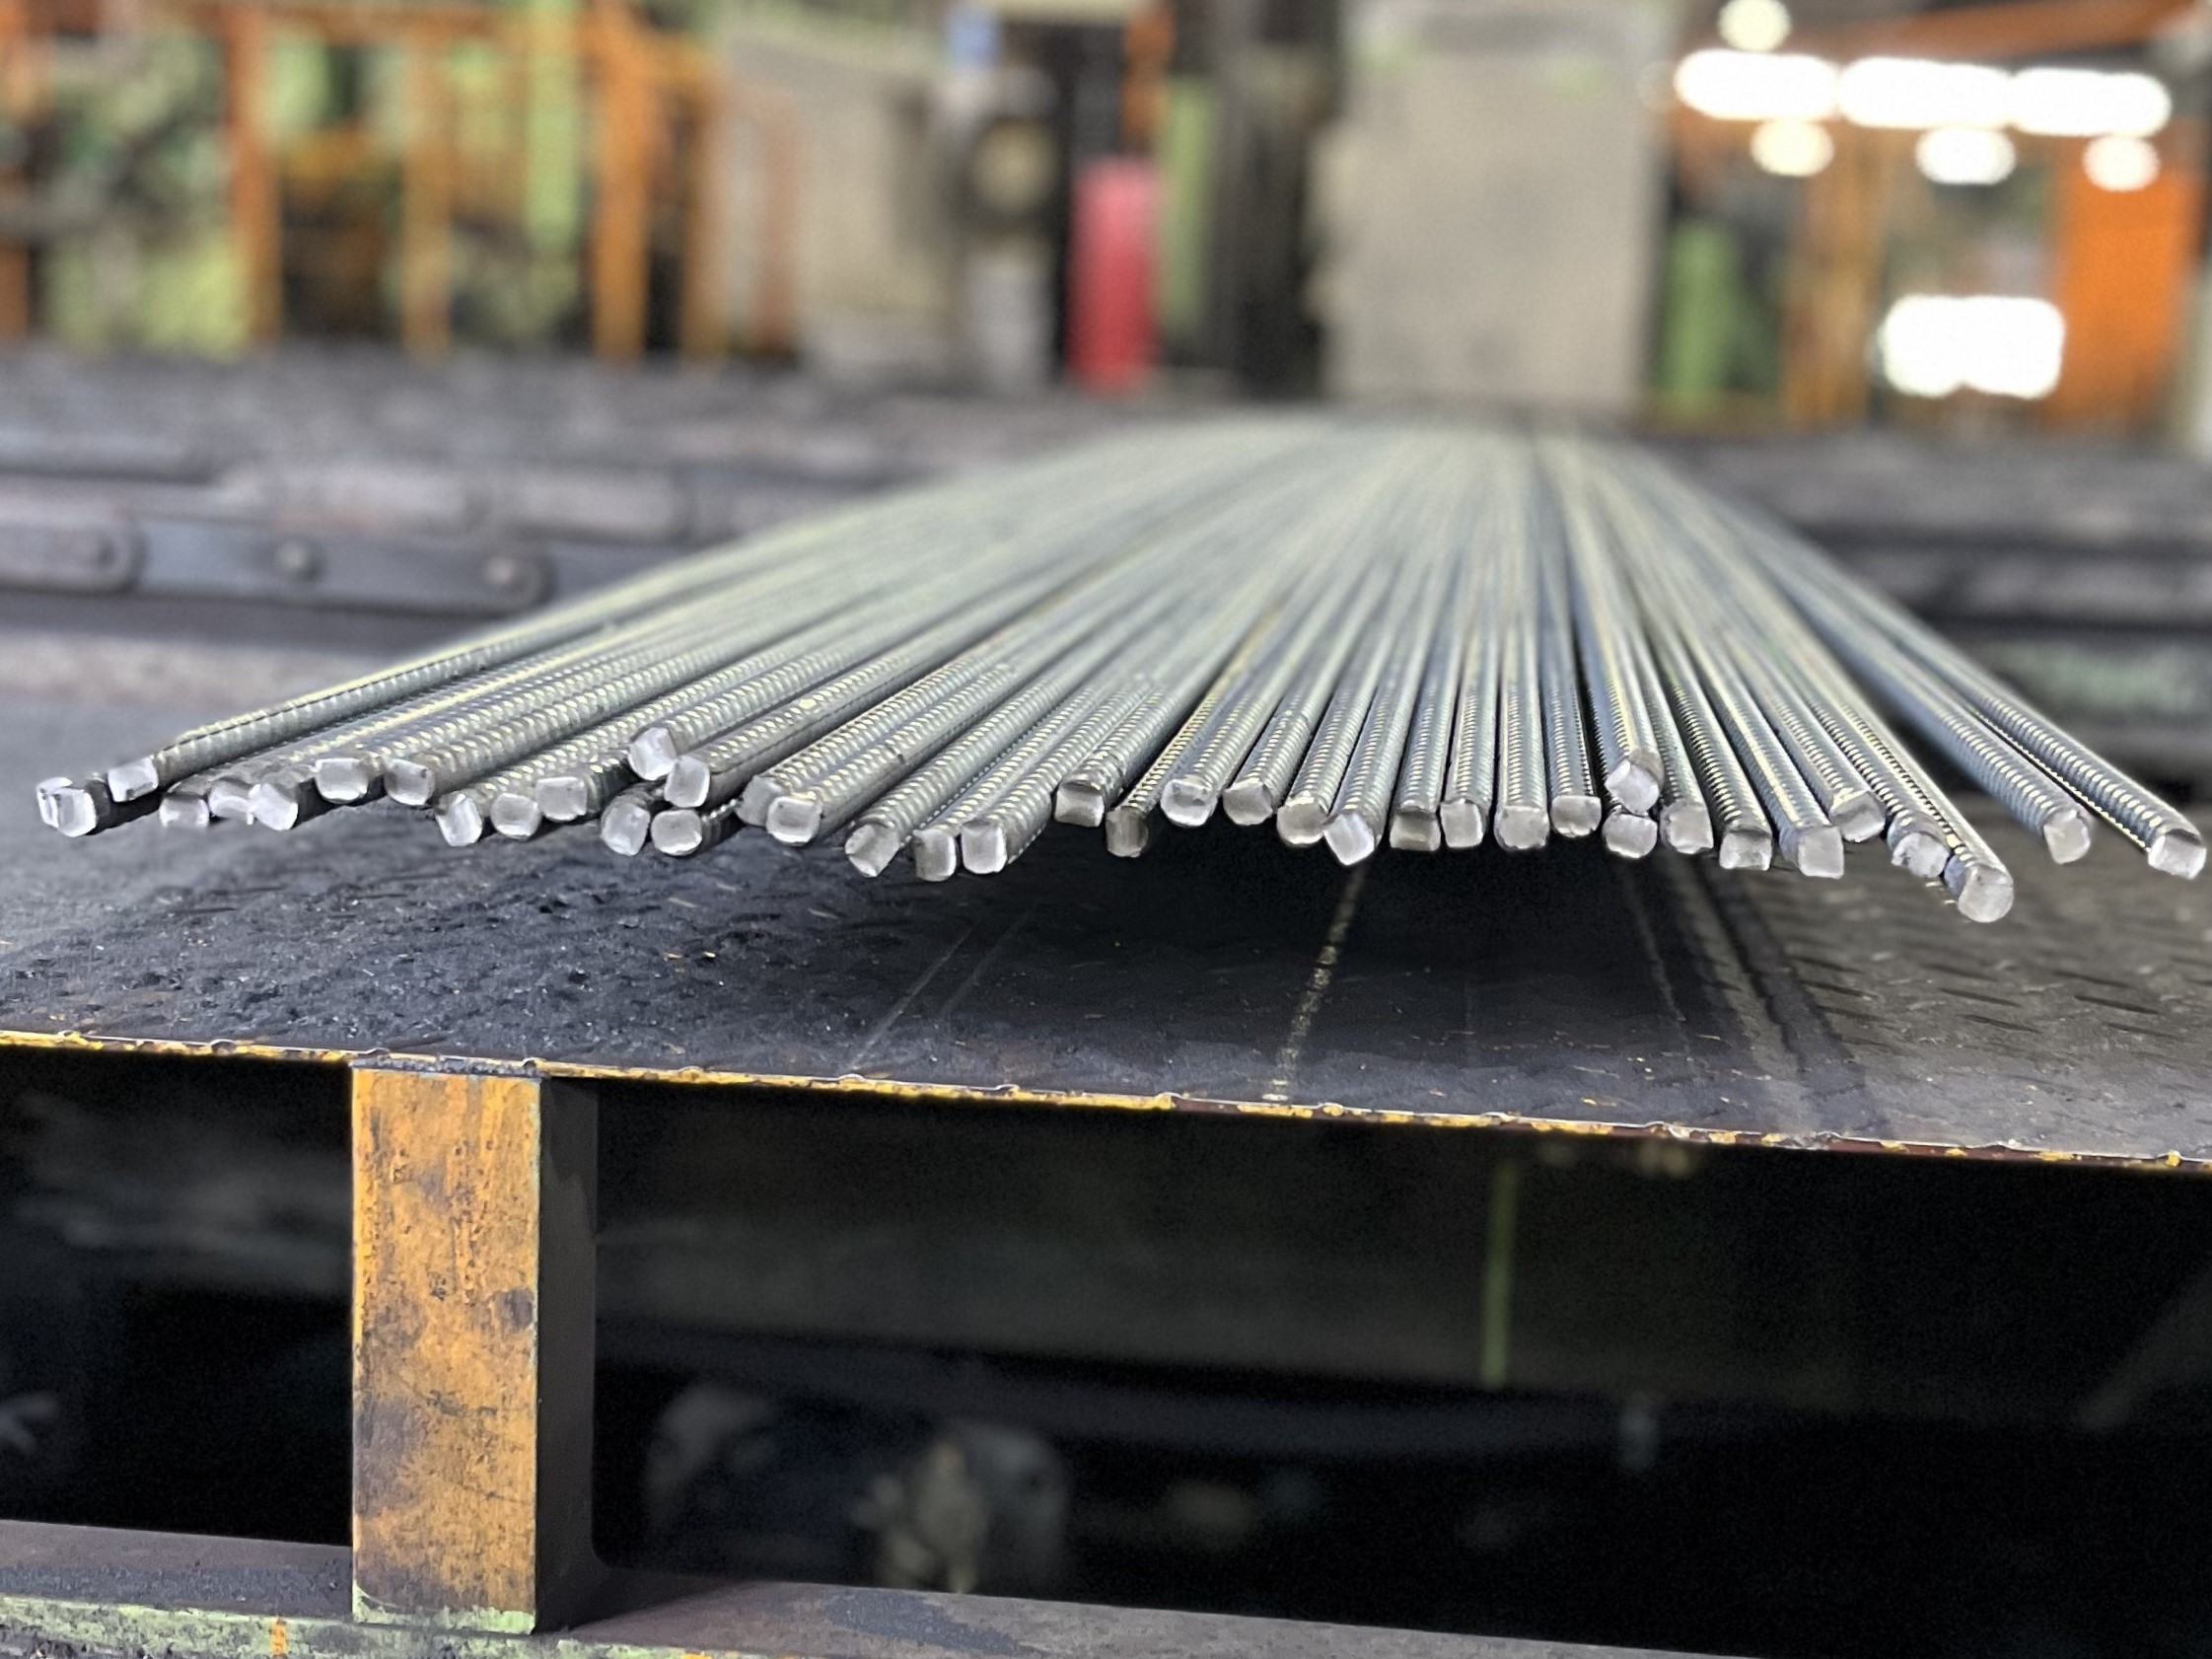rod: (1954, 859, 2015, 925), (841, 817, 902, 878), (1320, 807, 1379, 868), (1599, 756, 1662, 814), (2142, 828, 2207, 884), (2040, 809, 2095, 868), (1827, 789, 1888, 843), (624, 723, 679, 781), (956, 817, 1010, 877), (430, 788, 482, 849), (763, 795, 824, 847), (597, 800, 651, 857), (1658, 802, 1716, 856), (1157, 777, 1217, 828), (1716, 823, 1777, 873), (1794, 824, 1848, 880), (312, 753, 369, 805), (1491, 802, 1550, 852), (1599, 812, 1660, 861), (732, 772, 786, 826), (244, 781, 300, 833), (381, 756, 437, 809), (650, 807, 705, 859), (660, 753, 712, 809), (1052, 772, 1104, 828), (1890, 831, 1949, 880), (1101, 805, 1151, 861), (1386, 803, 1442, 854), (909, 826, 958, 884), (1219, 777, 1277, 826), (488, 789, 540, 842), (1271, 800, 1325, 850), (103, 756, 160, 803), (51, 786, 99, 840), (533, 775, 590, 821), (206, 774, 256, 824), (1439, 798, 1487, 850), (1550, 793, 1602, 842), (158, 789, 209, 831), (33, 777, 73, 828)
